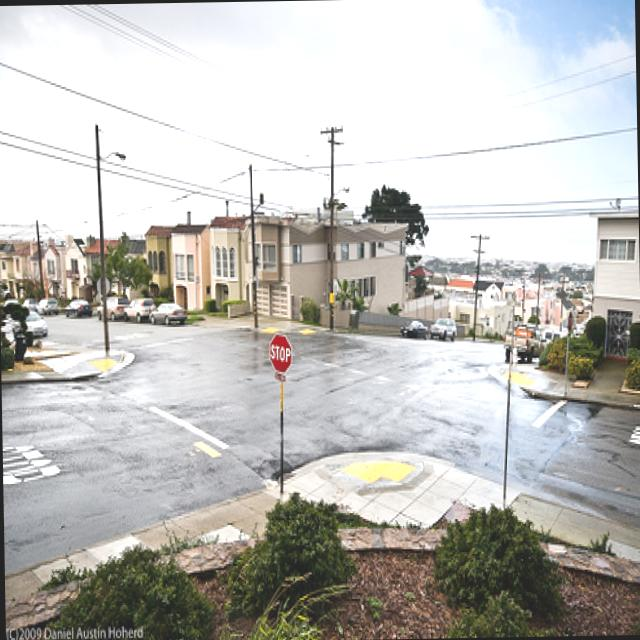Vehicle: (503, 327, 546, 363), (149, 302, 187, 326), (123, 296, 156, 322), (96, 296, 130, 320), (428, 316, 457, 341), (399, 318, 428, 339), (25, 311, 47, 338), (64, 299, 93, 317), (38, 298, 60, 316), (542, 330, 560, 347), (20, 298, 37, 309)
